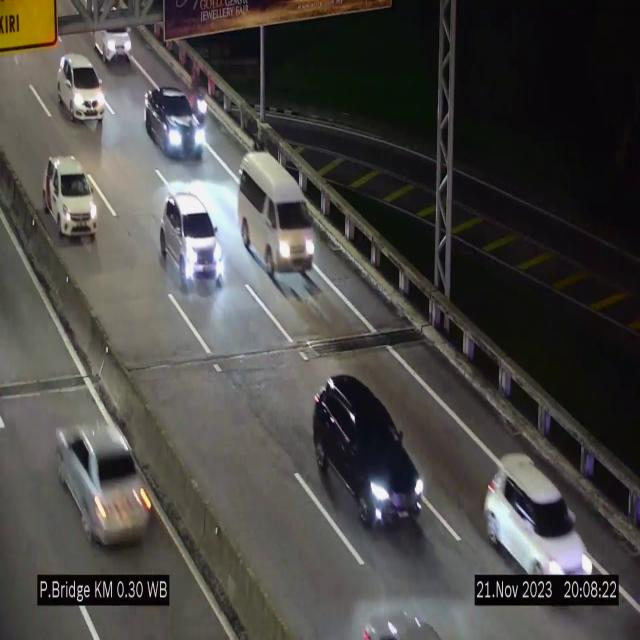Car: (313, 375, 425, 529), (44, 417, 160, 547), (484, 454, 596, 574), (236, 153, 312, 280), (43, 148, 107, 250), (163, 190, 228, 289), (144, 86, 206, 158), (58, 55, 106, 121), (90, 17, 142, 67)
Motorcycle: (188, 76, 207, 124)
